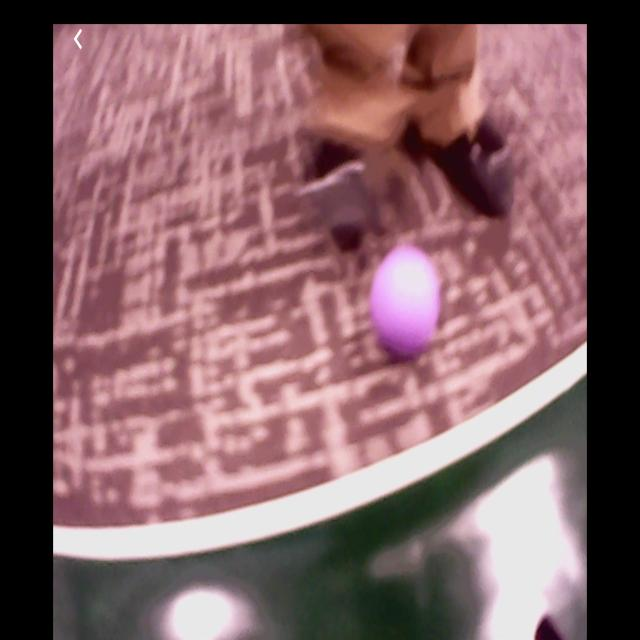ball: (370, 249, 440, 357)
